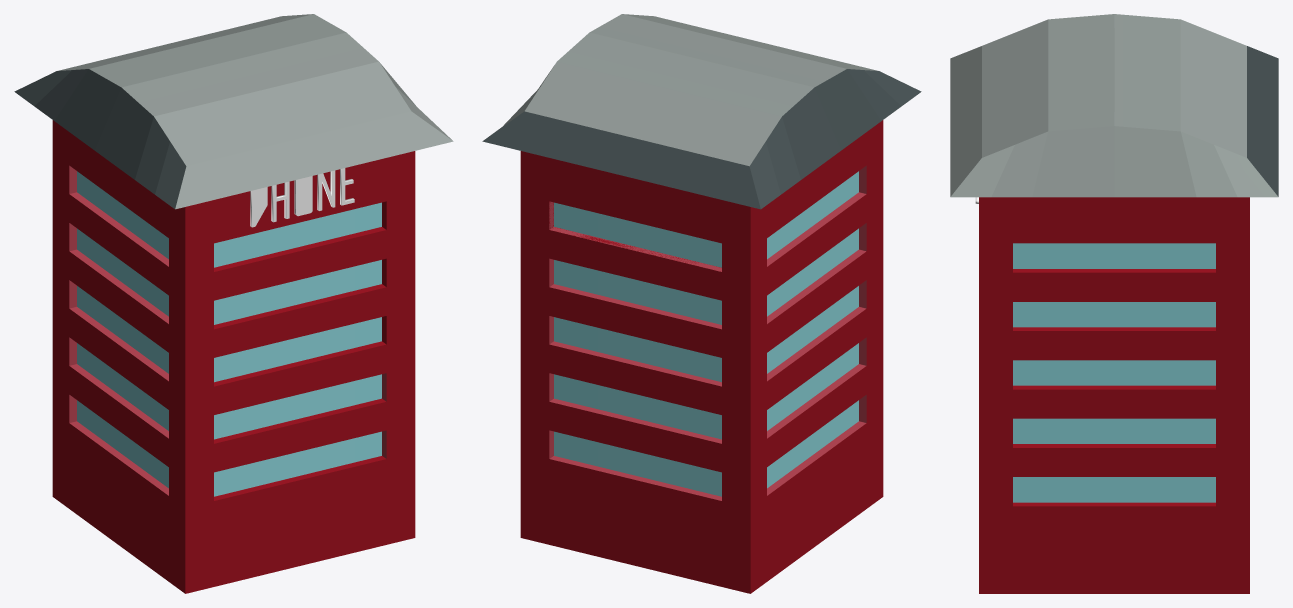
The model's file is phone.fbx.
3 renders of one model, left to right at view 1: azimuth 30°, elevation 25°; view 2: azimuth 150°, elevation 25°; view 3: azimuth 270°, elevation 25°, orthographic. The views are drawn at different scales.
Visible parts, largest first — view 1: Text; view 2: Text; view 3: Text.
Boxes of the visible parts, x1,y1,x2,y2 form: Text: [14, 14, 453, 593]; Text: [482, 14, 921, 593]; Text: [950, 14, 1278, 593].
Size of the model in its own units: 182 by 285 by 182.
